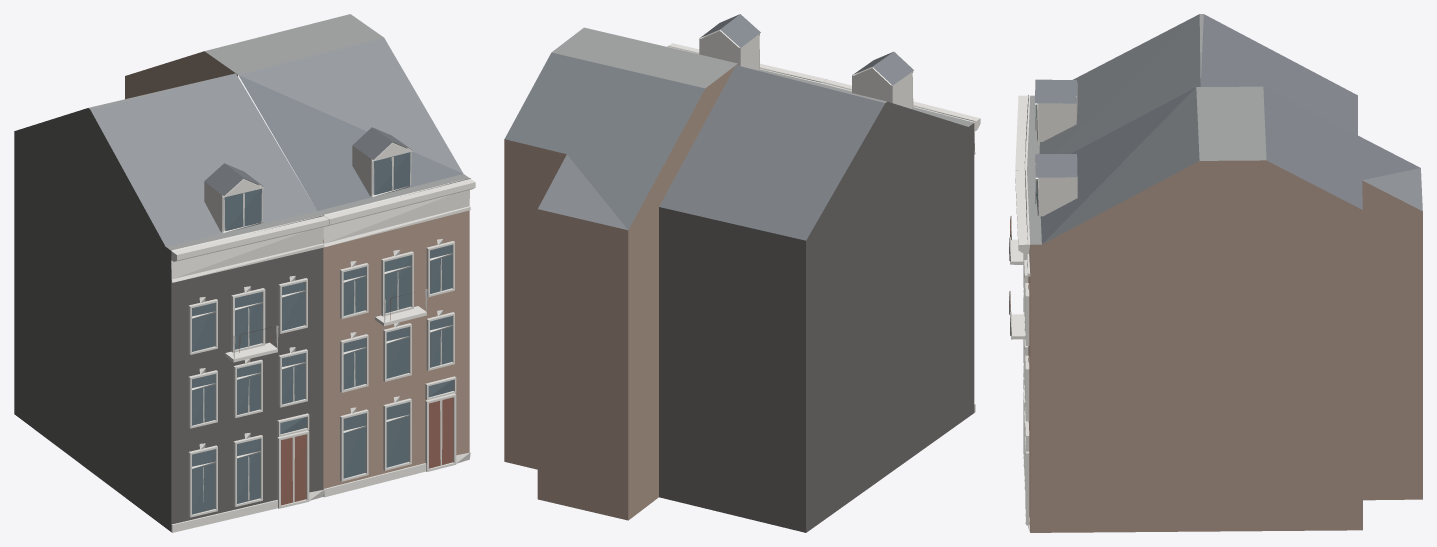
The model's file is chunk-face-helmers-108-174-r1.lod2.glb.
3 renders of one model, left to right at view 1: azimuth 30°, elevation 25°; view 2: azimuth 150°, elevation 25°; view 3: azimuth 270°, elevation 25°, orthographic. The views are drawn at different scales.
Visible parts, largest first — view 1: lod2; view 2: lod2; view 3: lod2.
Part boxes in pixels (bbox=[...]): lod2: bbox=[14, 14, 475, 532]; lod2: bbox=[504, 14, 980, 532]; lod2: bbox=[1009, 14, 1422, 532].
Size of the model in its own units: 12.01 by 13.9 by 14.07.
